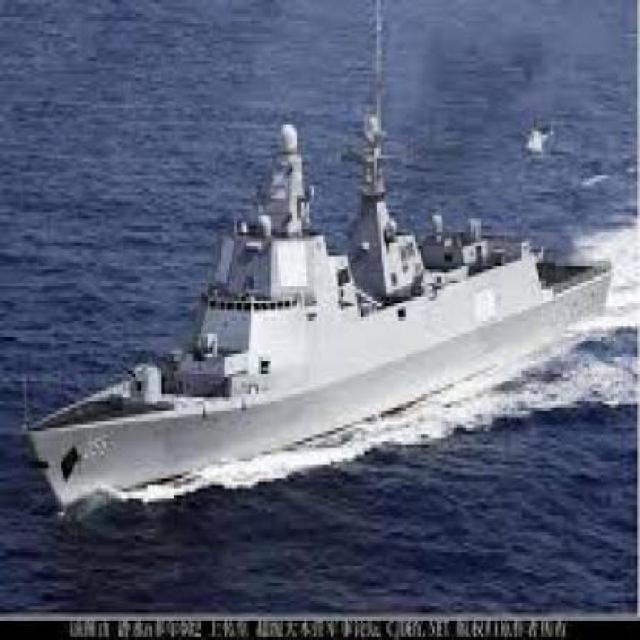warship2: (23, 58, 620, 530)
